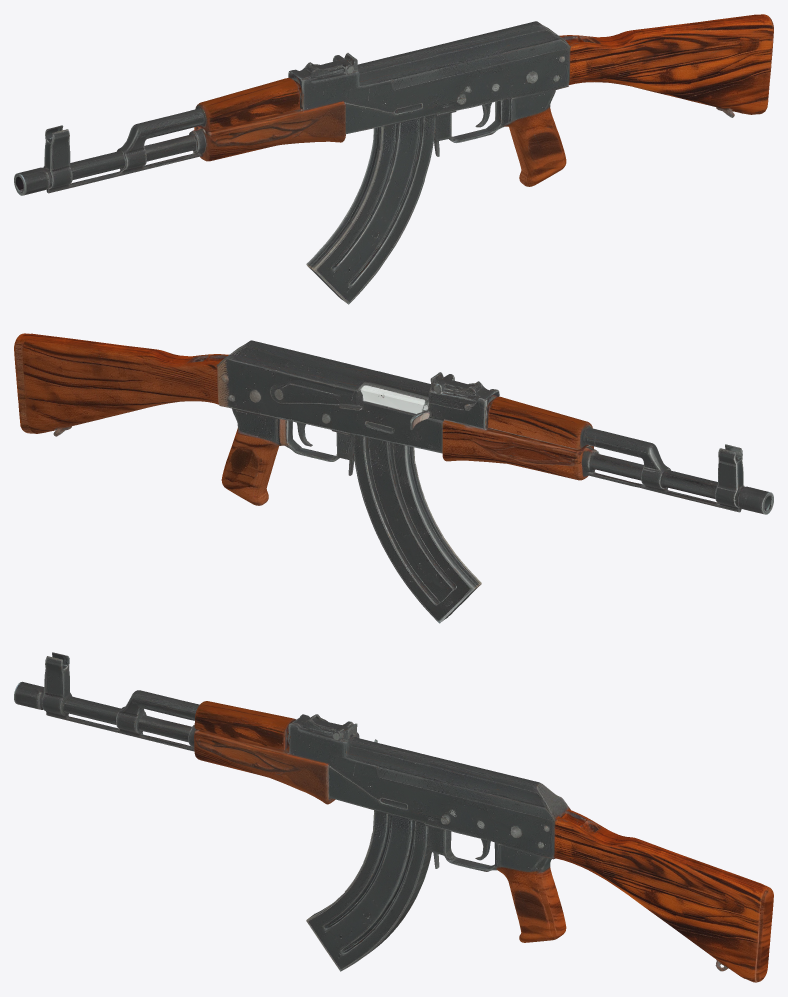
The picture shows the model from 3 angles, top to bottom: view 1: azimuth 30°, elevation 25°; view 2: azimuth 150°, elevation 25°; view 3: azimuth 330°, elevation 25°; orthographic projection.
Bounding box in the file's own units: 1.9 × 0.5905 × 0.1511.
Materials: 1 (1 with a texture image).
